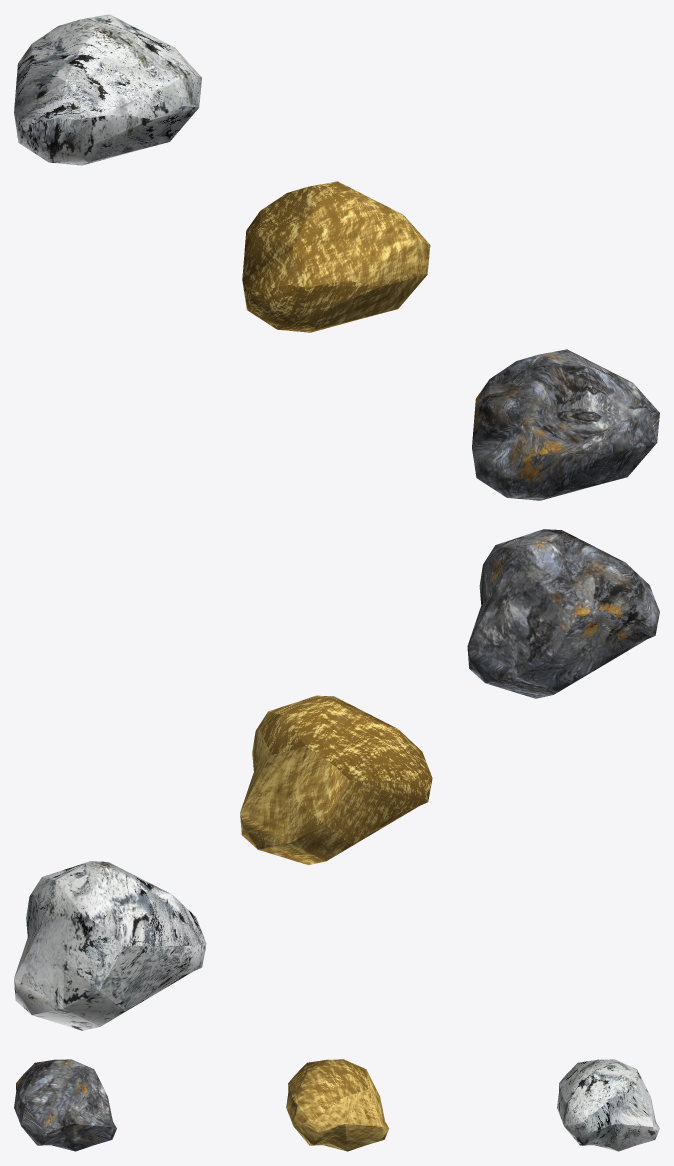
File: Ores model.fbx
The picture shows the model from 3 angles, top to bottom: view 1: azimuth 30°, elevation 25°; view 2: azimuth 150°, elevation 25°; view 3: azimuth 270°, elevation 25°; orthographic projection. The views are drawn at different scales.
Visible parts, largest first — view 1: Iron_Ore, Gold_Ore, Silver_Ore; view 2: Silver_Ore, Gold_Ore, Iron_Ore; view 3: Iron_Ore, Silver_Ore, Gold_Ore.
Boxes of the visible parts, x1,y1,x2,y2 form: Iron_Ore: (472, 349, 659, 500); Gold_Ore: (242, 181, 430, 332); Silver_Ore: (14, 14, 201, 165); Silver_Ore: (14, 861, 206, 1030); Gold_Ore: (240, 695, 432, 865); Iron_Ore: (467, 529, 659, 698); Iron_Ore: (14, 1059, 116, 1151); Silver_Ore: (557, 1059, 659, 1151); Gold_Ore: (286, 1059, 389, 1151).
Bounding box in the file's own units: 92.15 × 73.25 × 486.
Materials: 3 (3 with a texture image).
